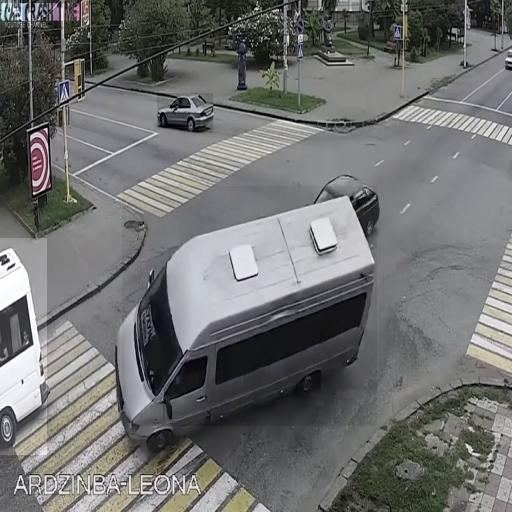小汽车: (0, 238, 47, 455), (157, 93, 213, 127)
小汽车撞小汽车: (122, 186, 377, 426)
